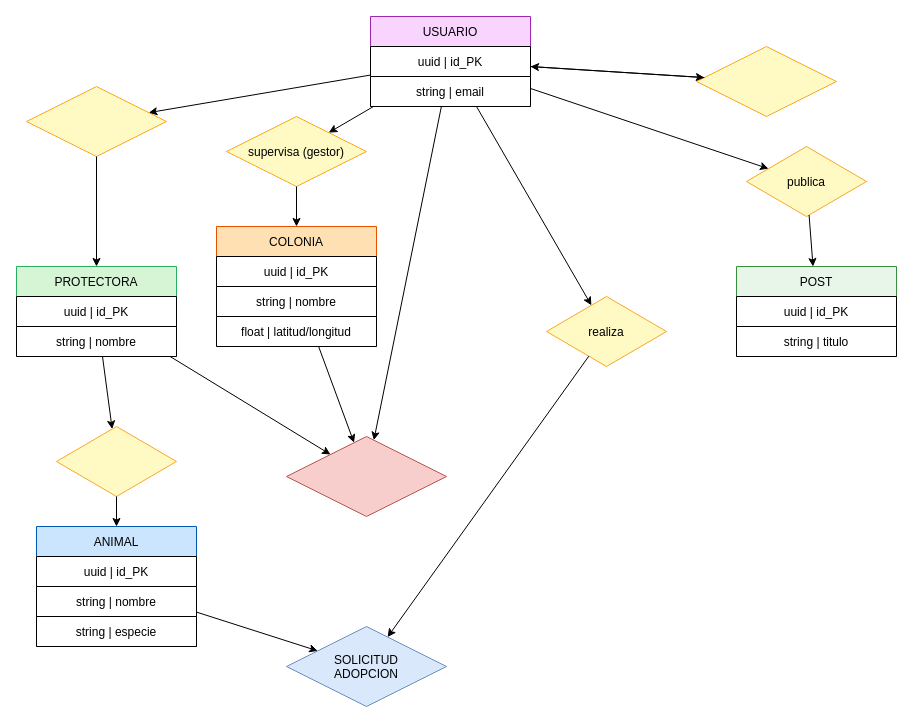
The diagram is 913 pixels wide and 723 high, and some of its shapes have lost their labels. Each missing label, with the box of its shape:
administra (N:M): (26, 86, 166, 156)
alberga: (56, 426, 176, 496)
NECESIDAD: (286, 436, 446, 516)
pide_cambio_rol: (696, 46, 836, 116)
